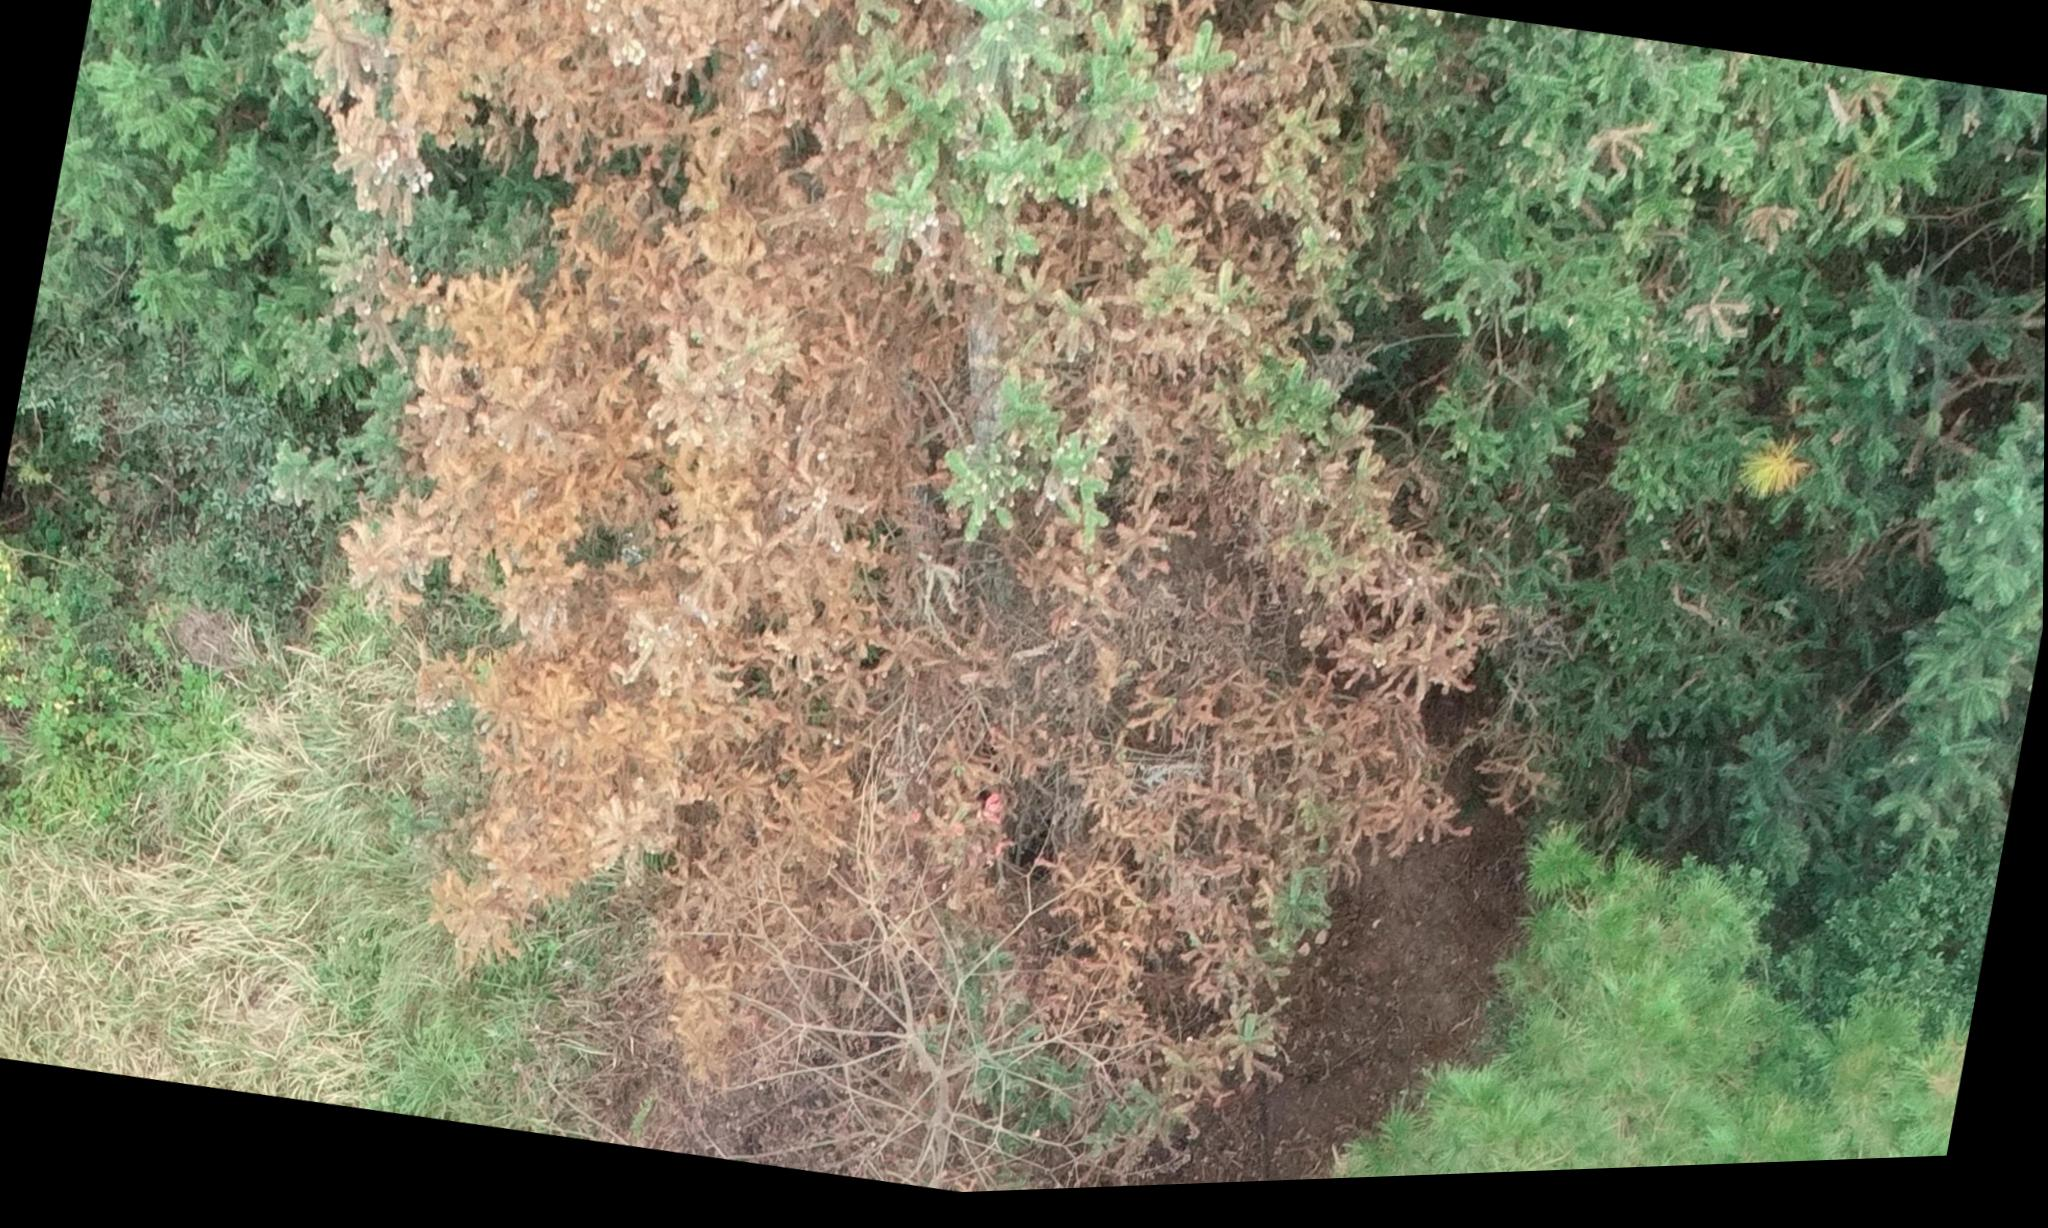heavy: (153, 0, 1560, 1133)
